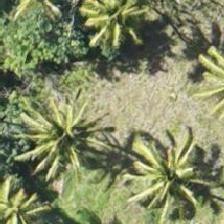coconut_tree: (18, 81, 108, 171), (114, 139, 204, 223), (65, 0, 155, 56), (0, 164, 69, 223), (0, 0, 74, 52)
